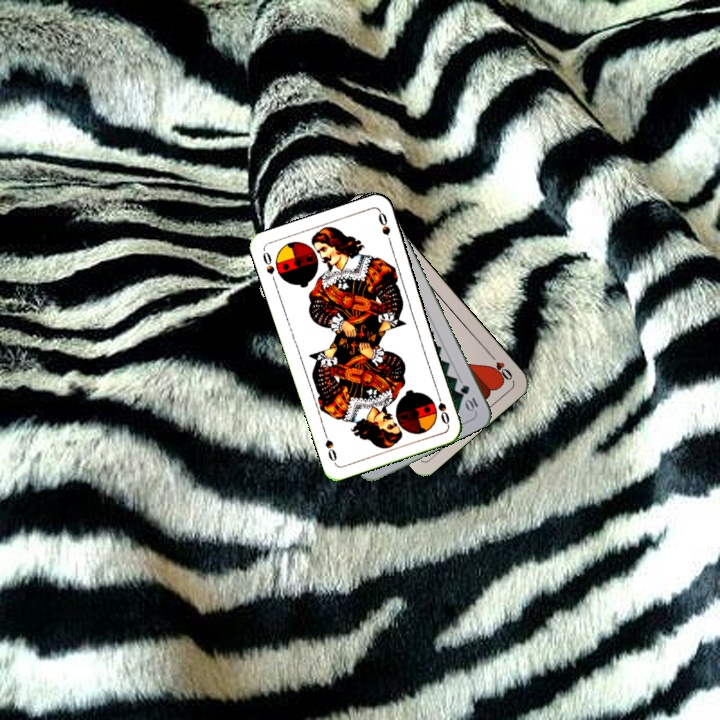G10: (456, 381, 481, 414)
HO: (485, 349, 515, 383)
SO: (258, 247, 279, 286), (432, 387, 452, 427)
